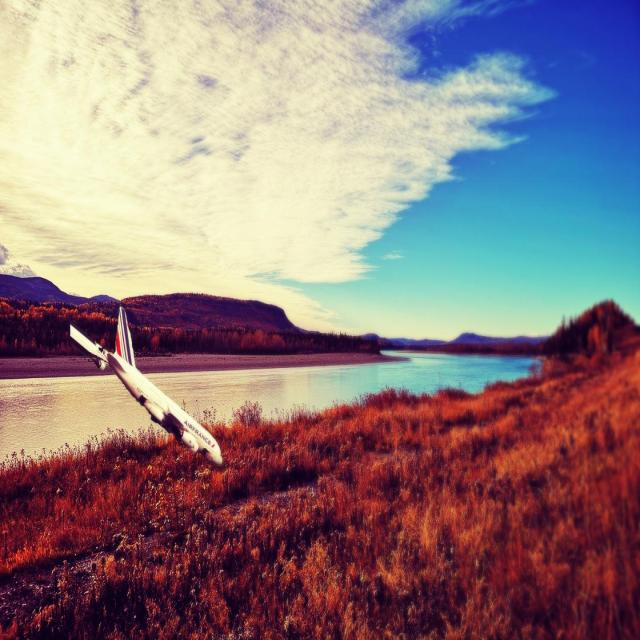airplane: (68, 304, 222, 468)
